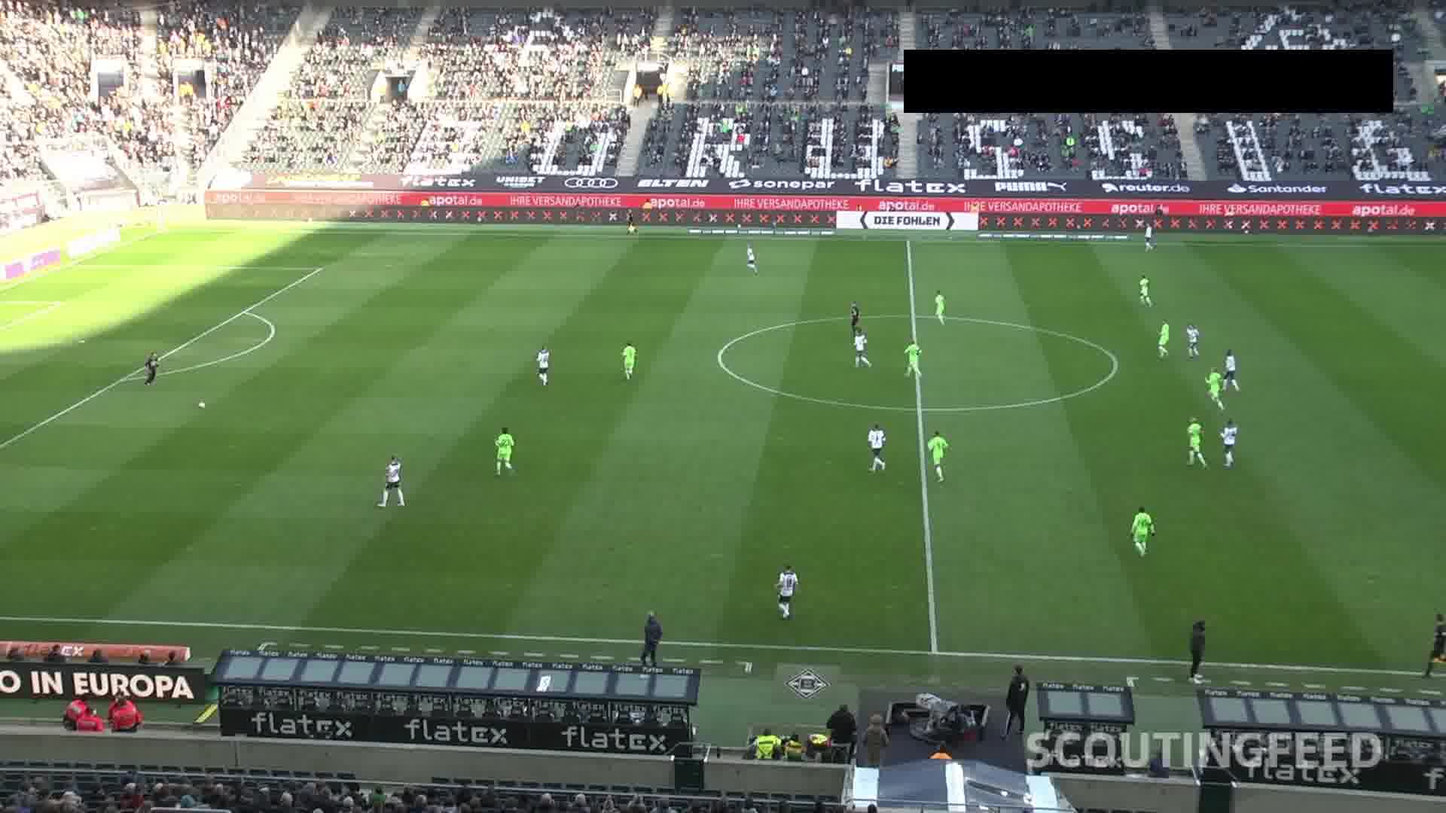ball: (195, 396, 207, 410)
coach_staff: (988, 657, 1028, 723), (634, 600, 665, 670), (1184, 611, 1206, 683)
goalkeeper: (143, 350, 161, 388)
player: (482, 424, 516, 474), (1125, 504, 1155, 555), (772, 561, 802, 611), (378, 452, 403, 511), (861, 423, 887, 477), (523, 344, 554, 386), (925, 424, 948, 479), (1201, 360, 1224, 412), (1184, 413, 1206, 465), (611, 341, 641, 379), (928, 279, 950, 327), (847, 326, 869, 366), (902, 340, 923, 381), (1181, 316, 1201, 359), (1133, 271, 1157, 304), (1219, 353, 1241, 388), (741, 235, 757, 279), (1221, 417, 1236, 459), (1155, 317, 1170, 358), (1140, 216, 1154, 251)
referee: (1425, 614, 1446, 677), (621, 207, 640, 243), (847, 299, 861, 331)
